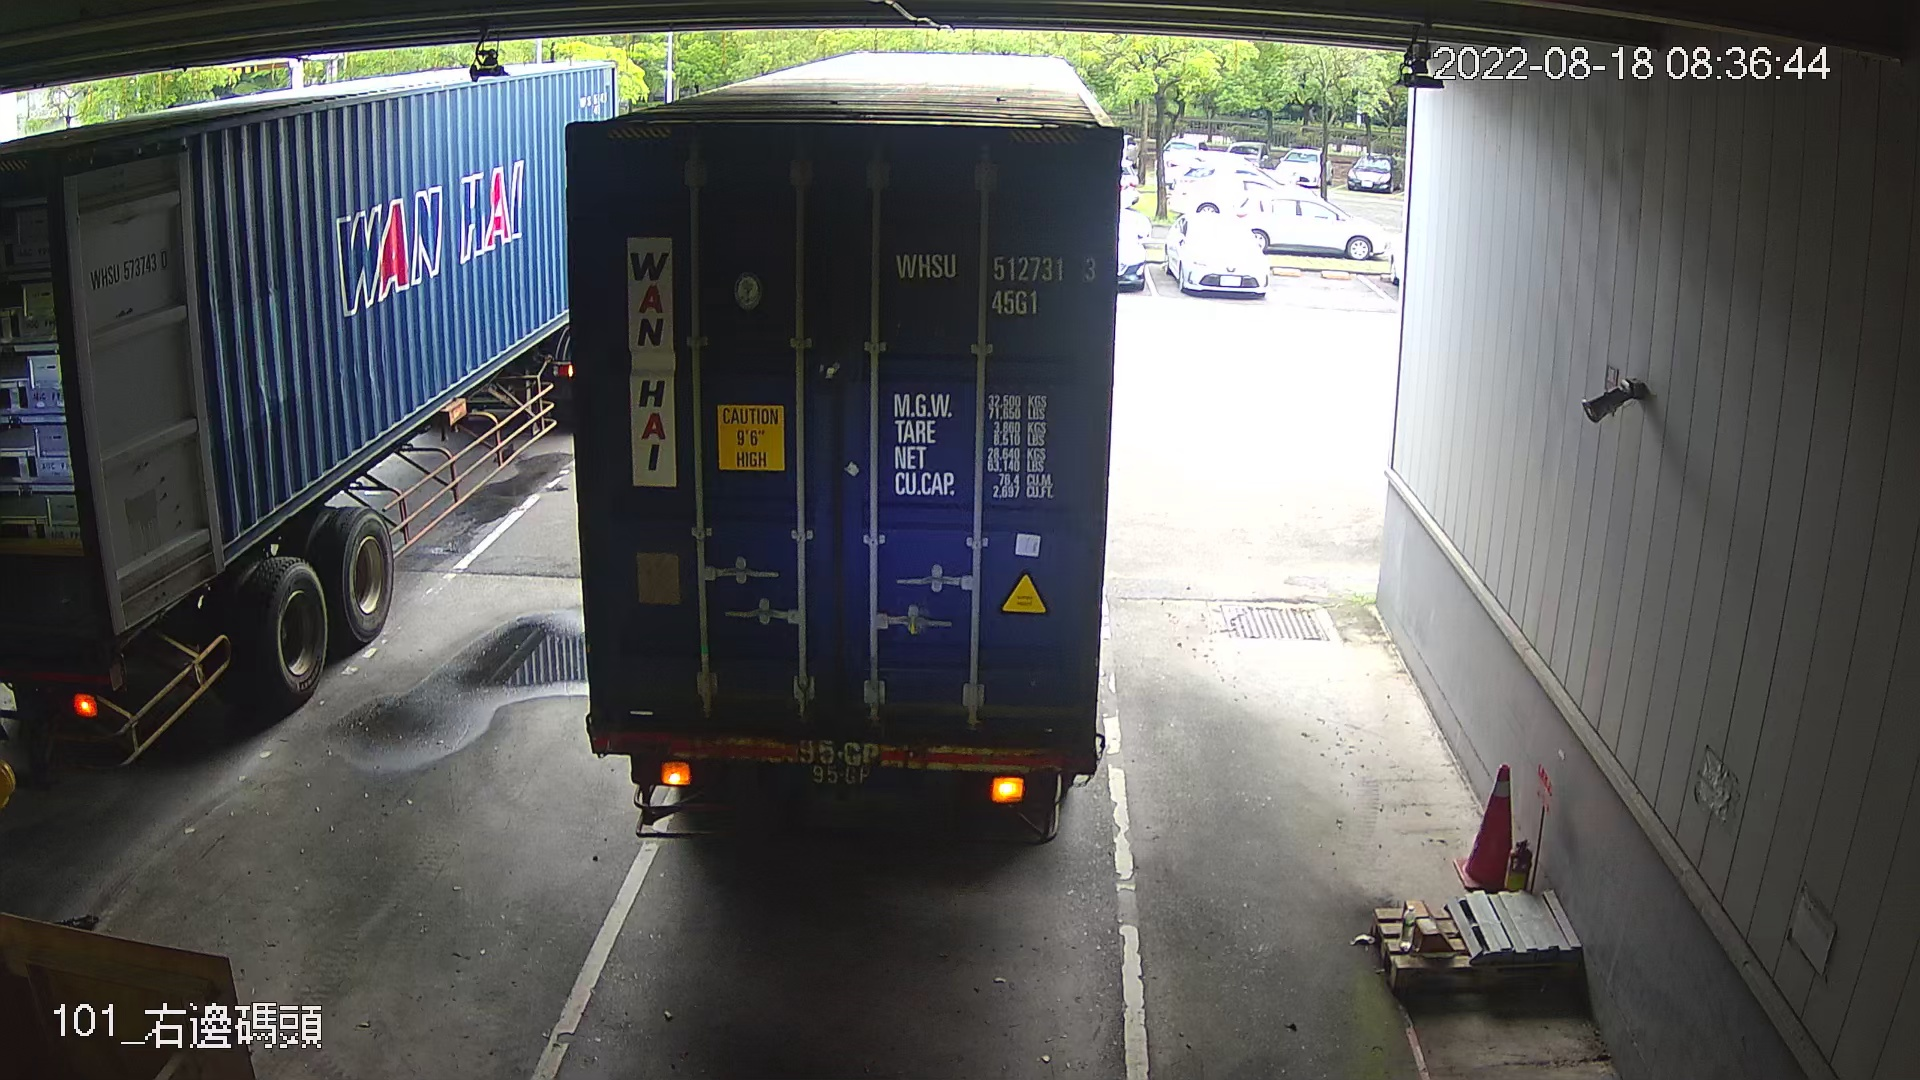container: (887, 236, 1102, 326)
